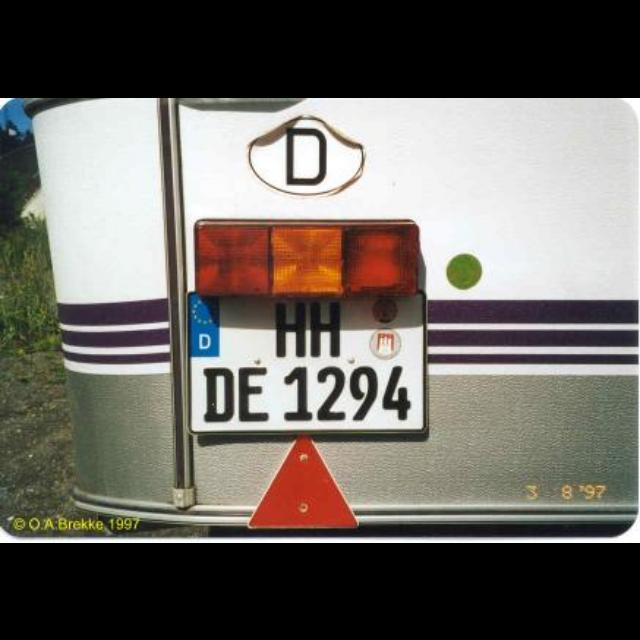d_license_plate: (188, 289, 422, 429)
